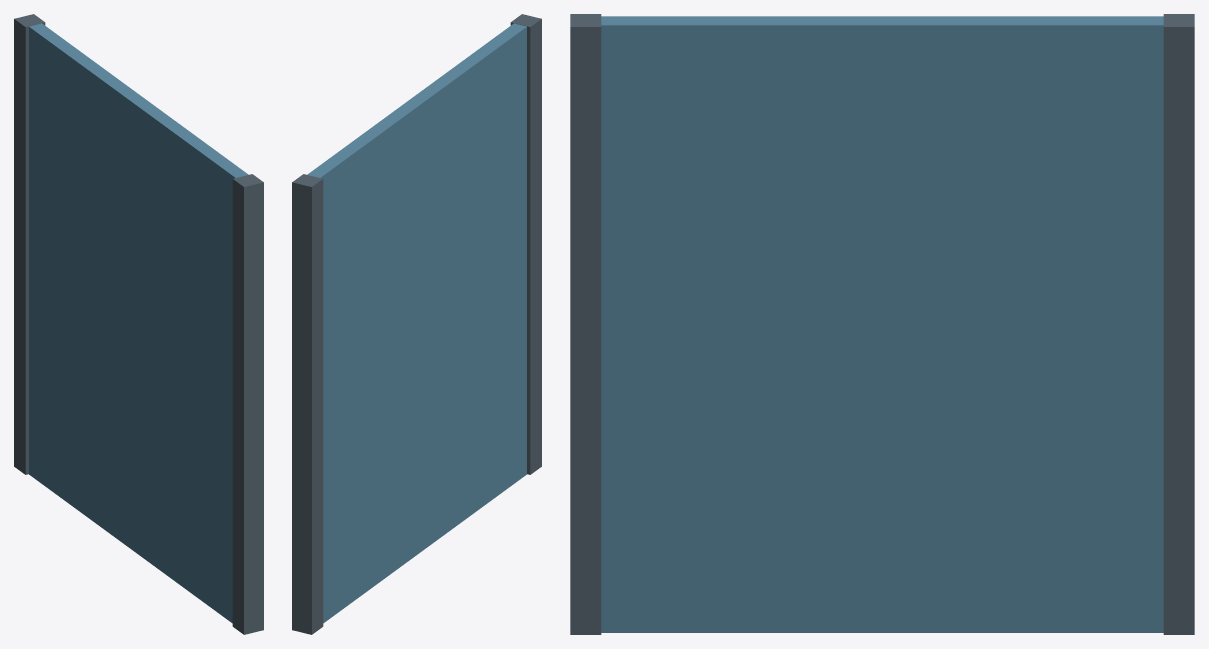
The model's file is stand-end-screen-73082658.glb.
The picture shows the model from 3 angles, left to right: view 1: azimuth 30°, elevation 25°; view 2: azimuth 150°, elevation 25°; view 3: azimuth 270°, elevation 25°; orthographic projection. The views are drawn at different scales.
Parts seen in each view (by area): view 1: stand-end-screen; view 2: stand-end-screen; view 3: stand-end-screen.
Part boxes in pixels (x1,y1,x2,y2): stand-end-screen: [14, 14, 263, 634]; stand-end-screen: [292, 14, 541, 634]; stand-end-screen: [570, 14, 1194, 634].
Size of the model in its own units: 0.12 by 2.6 by 2.42.
